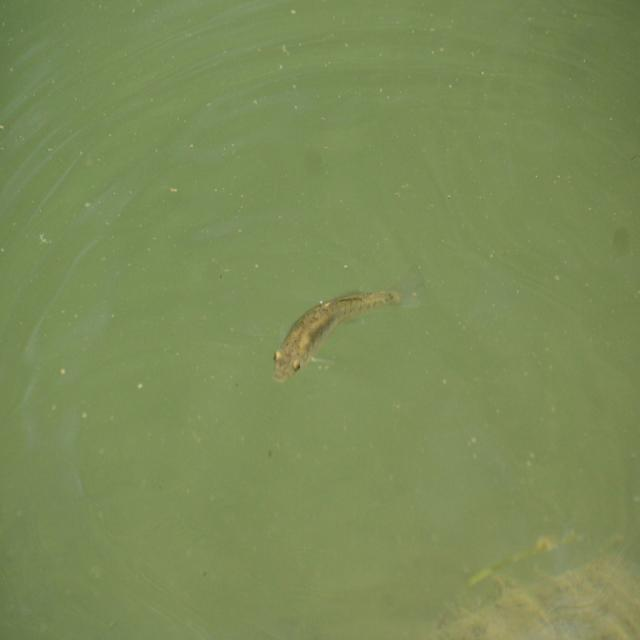Sivrisinek Baligi: (271, 280, 404, 382)
